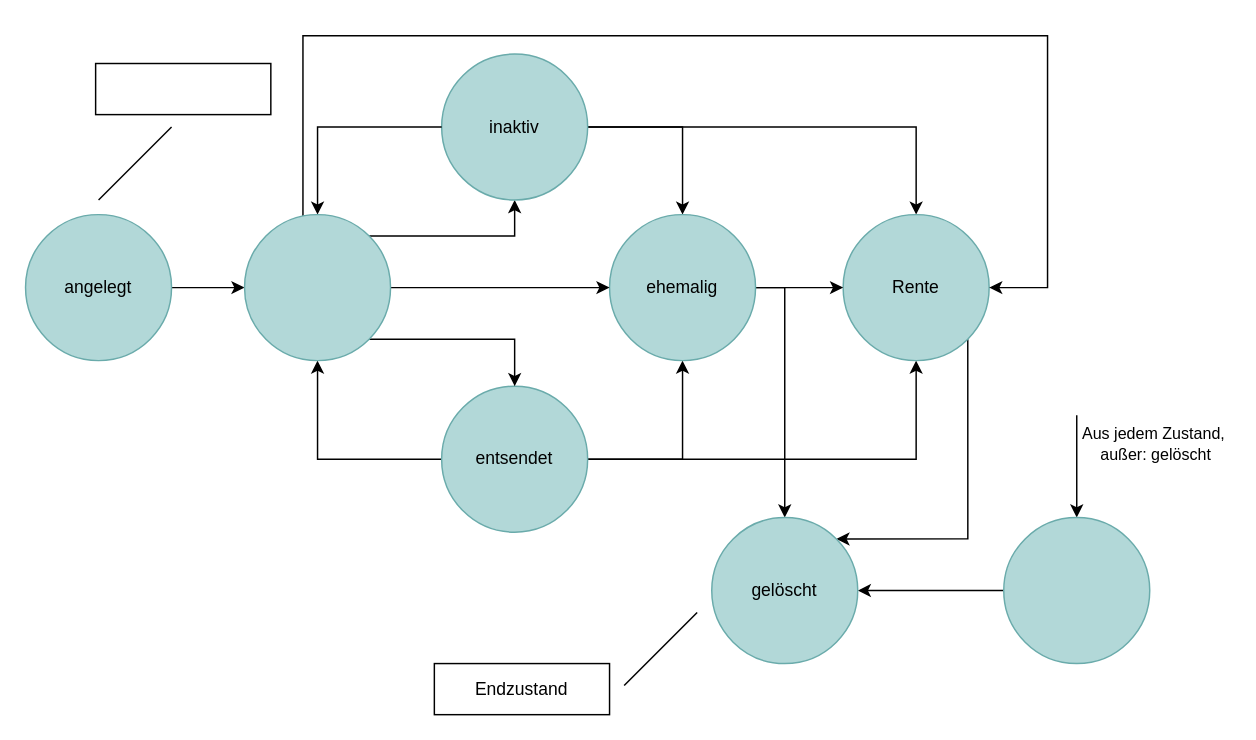
This 1256x740 diagram has some shape labels left out. The centre of each missing label's shape, as x and y in pixels:
aktiv: point (317, 287)
Initialer Zustand: point (182, 88)
verstorben: point (1076, 590)
